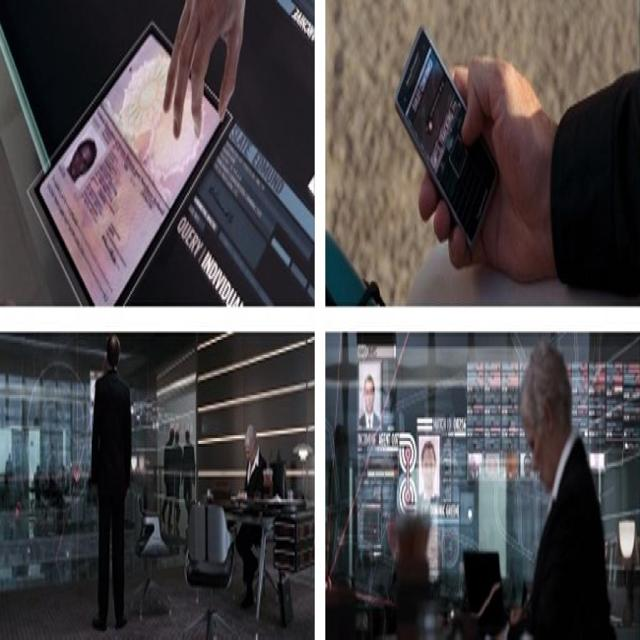nomask: (524, 392, 561, 493), (422, 450, 436, 490), (364, 380, 374, 410)
